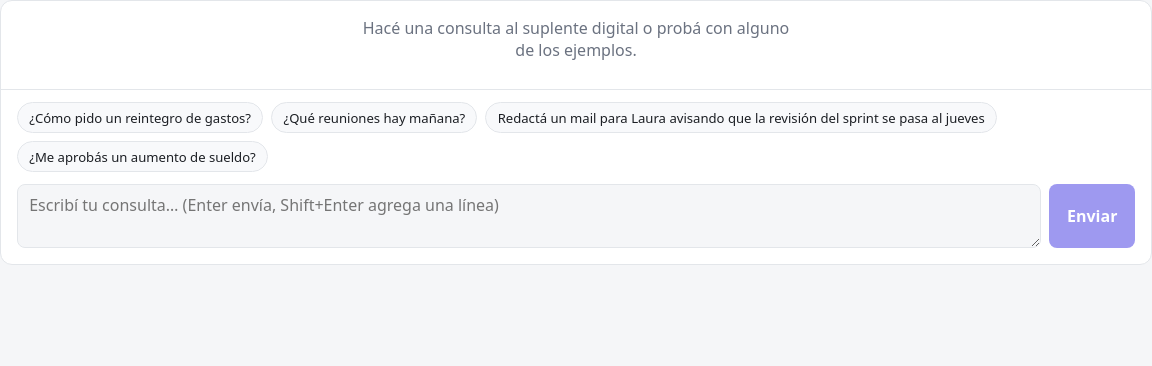
Test: Chat › FRONT-CHAT-01 sends the trimmed question with the send button and renders the answer
Type "  ¿Cómo pido vacaciones?  " into the text box labelled "consulta" at (529, 216), box [17, 184, 1041, 248]
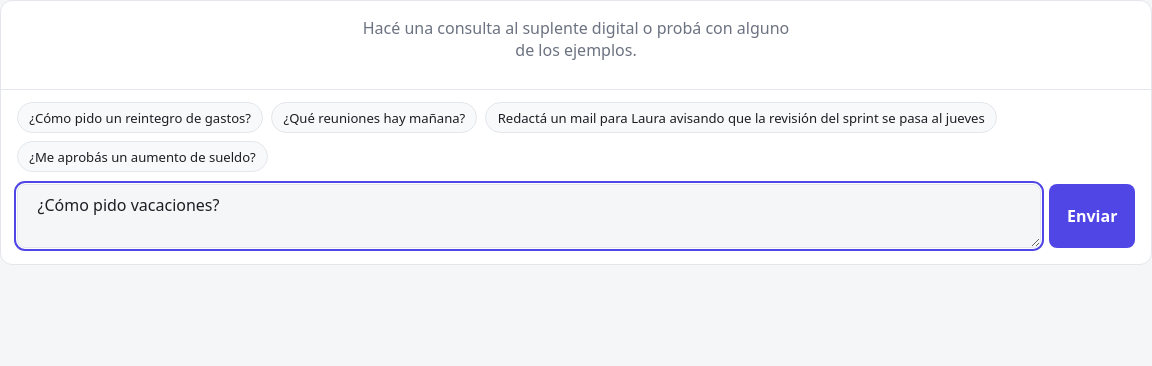
Click the button "Enviar" at (1092, 216), box [1049, 184, 1135, 248]
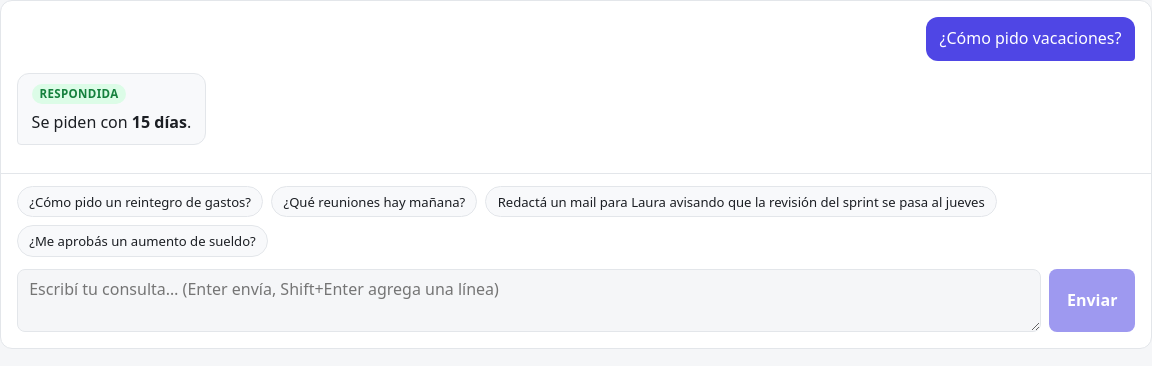
Now the text "15 días" is shown, box [132, 111, 187, 133]
Now the text "¿Cómo pido vacaciones?" is shown, box [926, 17, 1135, 61]
Now the text box labelled "consulta" is empty, box [17, 269, 1041, 332]
